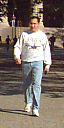person: (13, 14, 53, 116)
